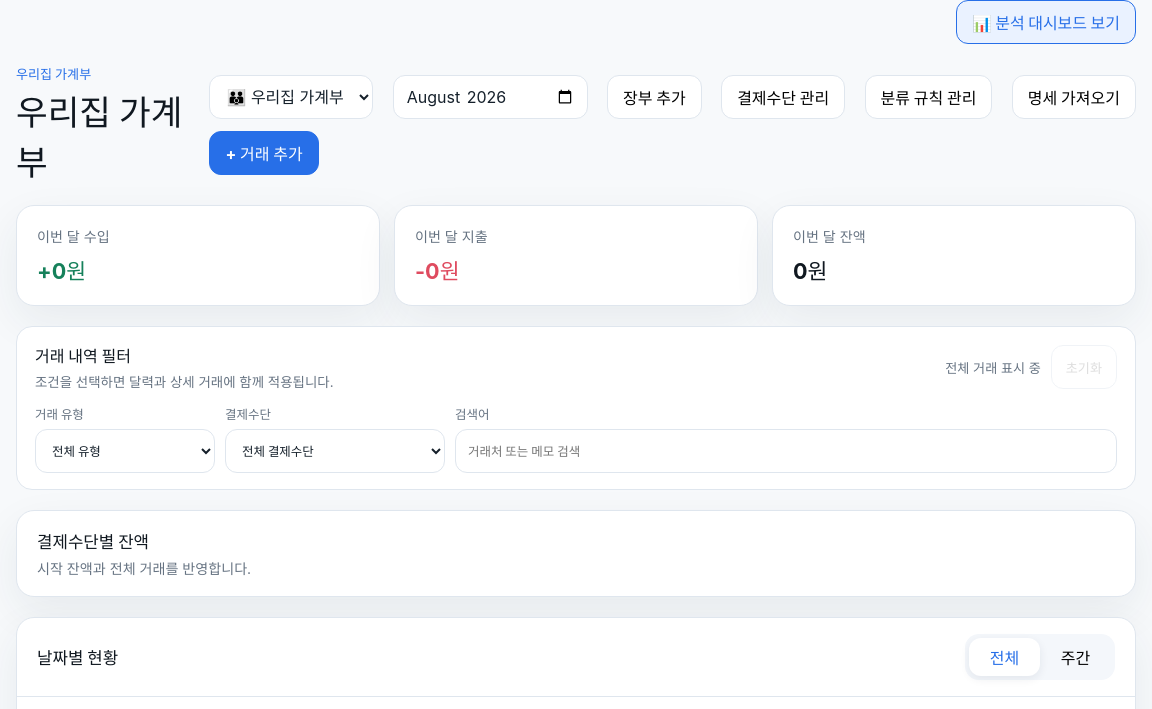
Test: LedgerPage › shows classification management only to a ledger configuration manager
What coordinates should you click on to do the following:
click the button "분류 규칙 관리"
I would click on:
 (929, 96)
Its box is x1=865 y1=74 x2=992 y2=118.
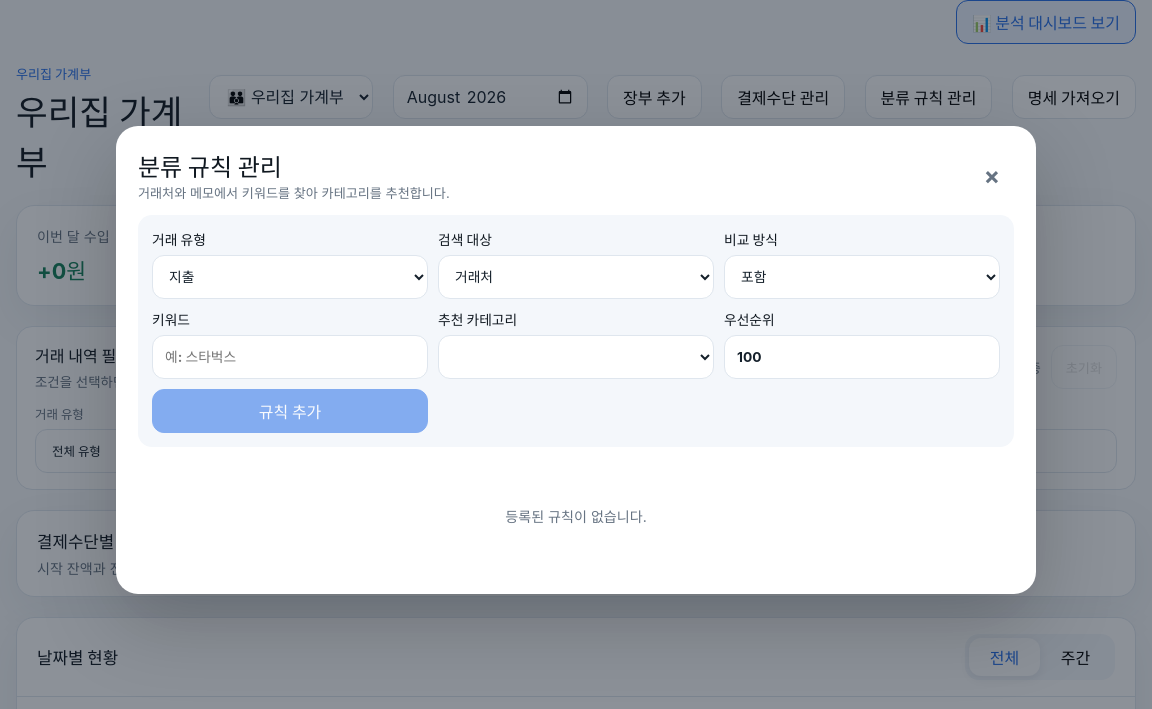
Expected: the heading "분류 규칙 관리" is shown, x1=138 y1=153 x2=282 y2=182
